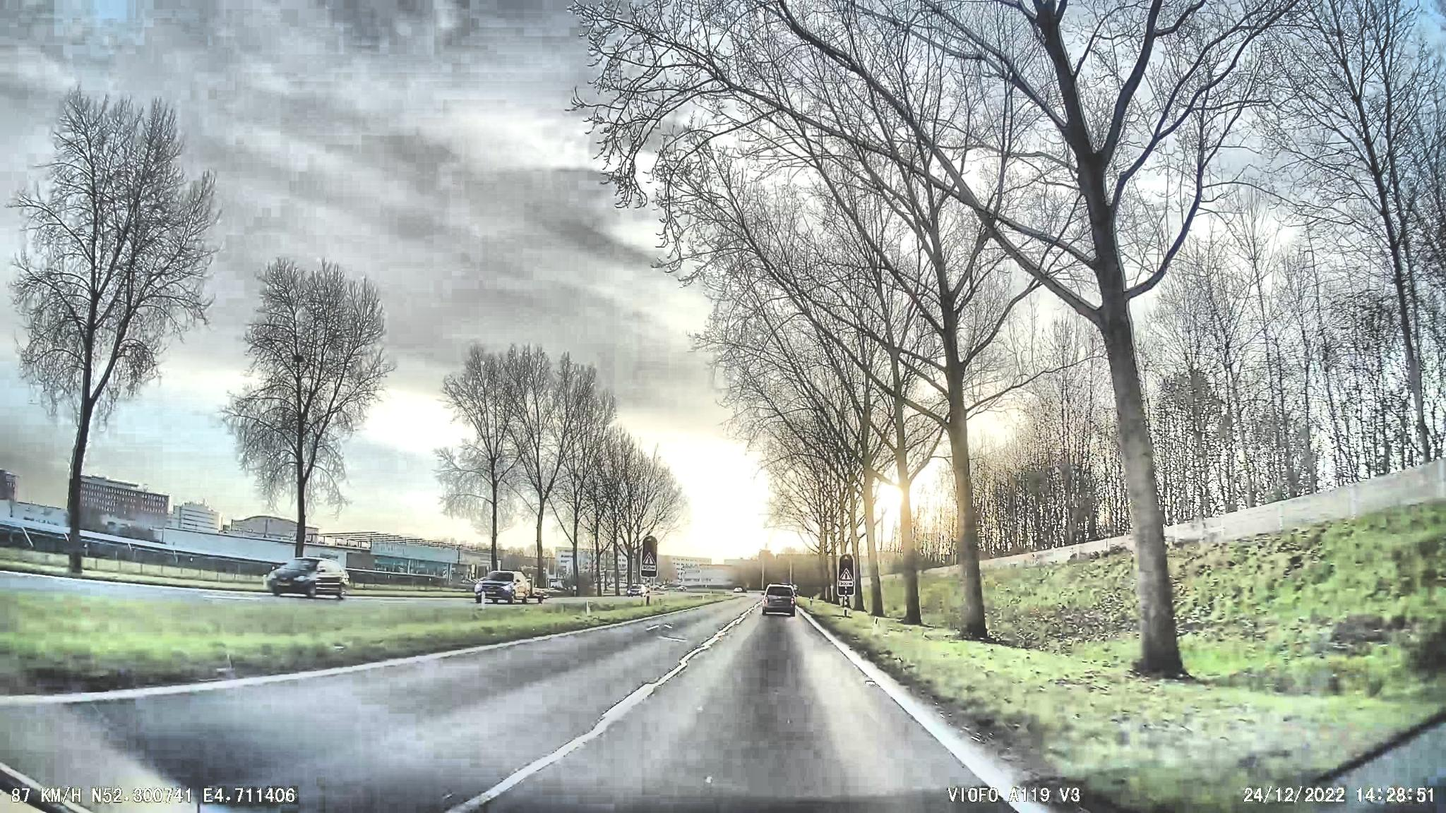Roads: (0, 600, 1133, 813)
